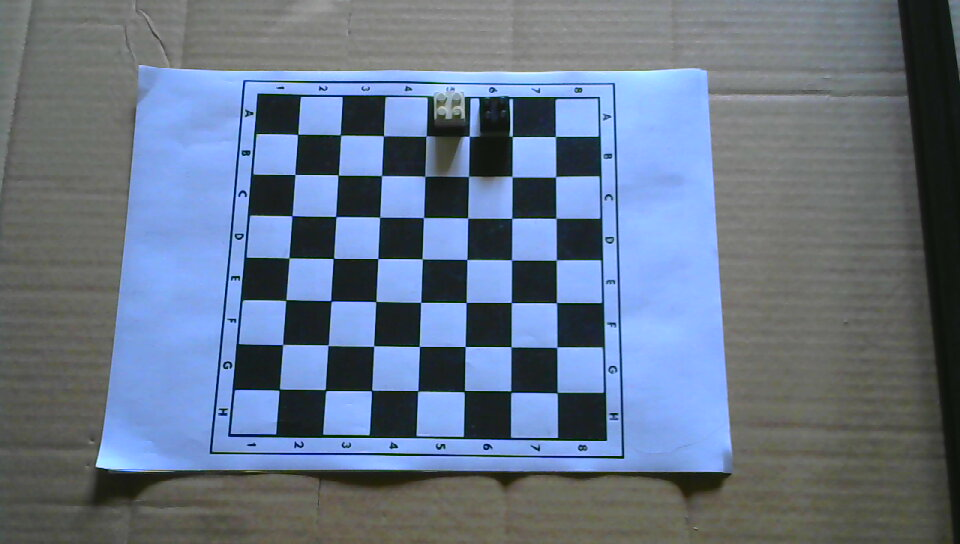bp: (478, 94, 512, 132)
wp: (432, 90, 467, 126)
